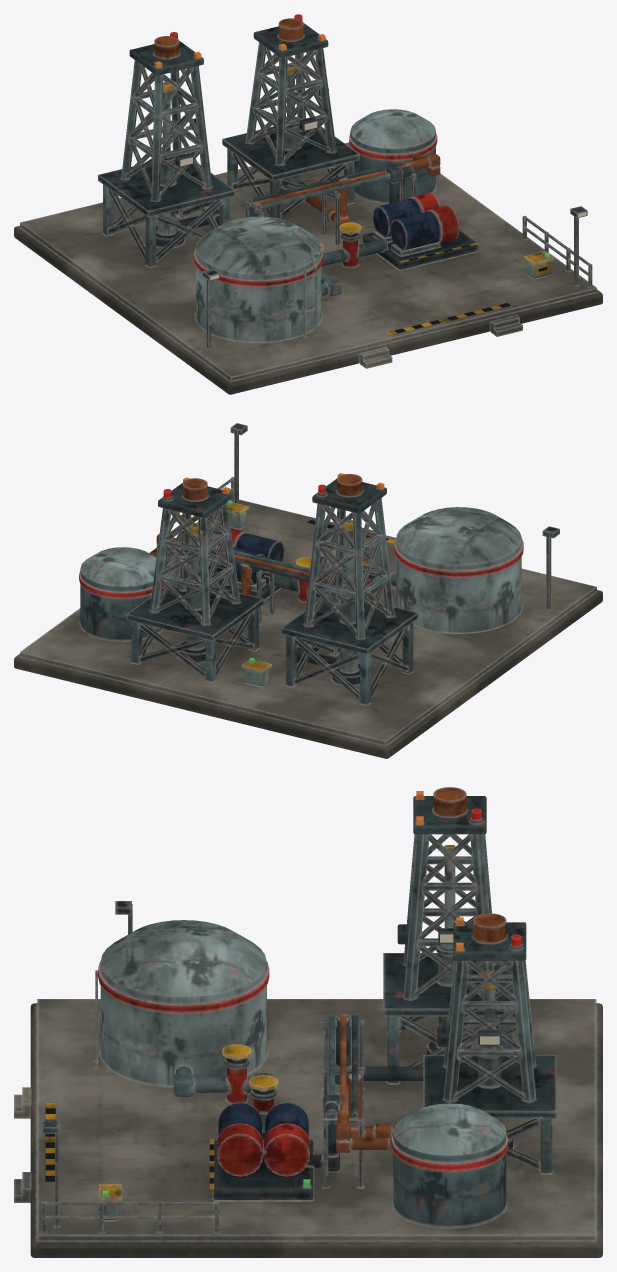
File: big_pump.glb
The picture shows the model from 3 angles, top to bottom: view 1: azimuth 30°, elevation 25°; view 2: azimuth 150°, elevation 25°; view 3: azimuth 270°, elevation 25°; orthographic projection. The views are drawn at different scales.
Visible parts, largest first — view 1: te_big_pump; view 2: te_big_pump; view 3: te_big_pump, move_rod_1.
Boxes of the visible parts, x1=… form: te_big_pump: x1=14, y1=14, x2=602, y2=394; te_big_pump: x1=14, y1=423, x2=602, y2=758; te_big_pump: x1=14, y1=787, x2=602, y2=1257; move_rod_1: x1=444, y1=845, x2=455, y2=948.
Bounding box in the file's own units: 1.72 × 0.945 × 1.77.
Materials: 1 (1 with a texture image).
